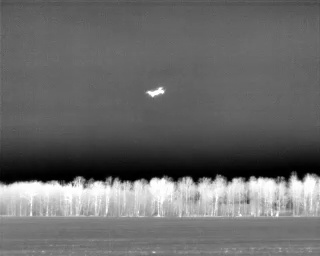DRONE: (143, 81, 169, 102)
